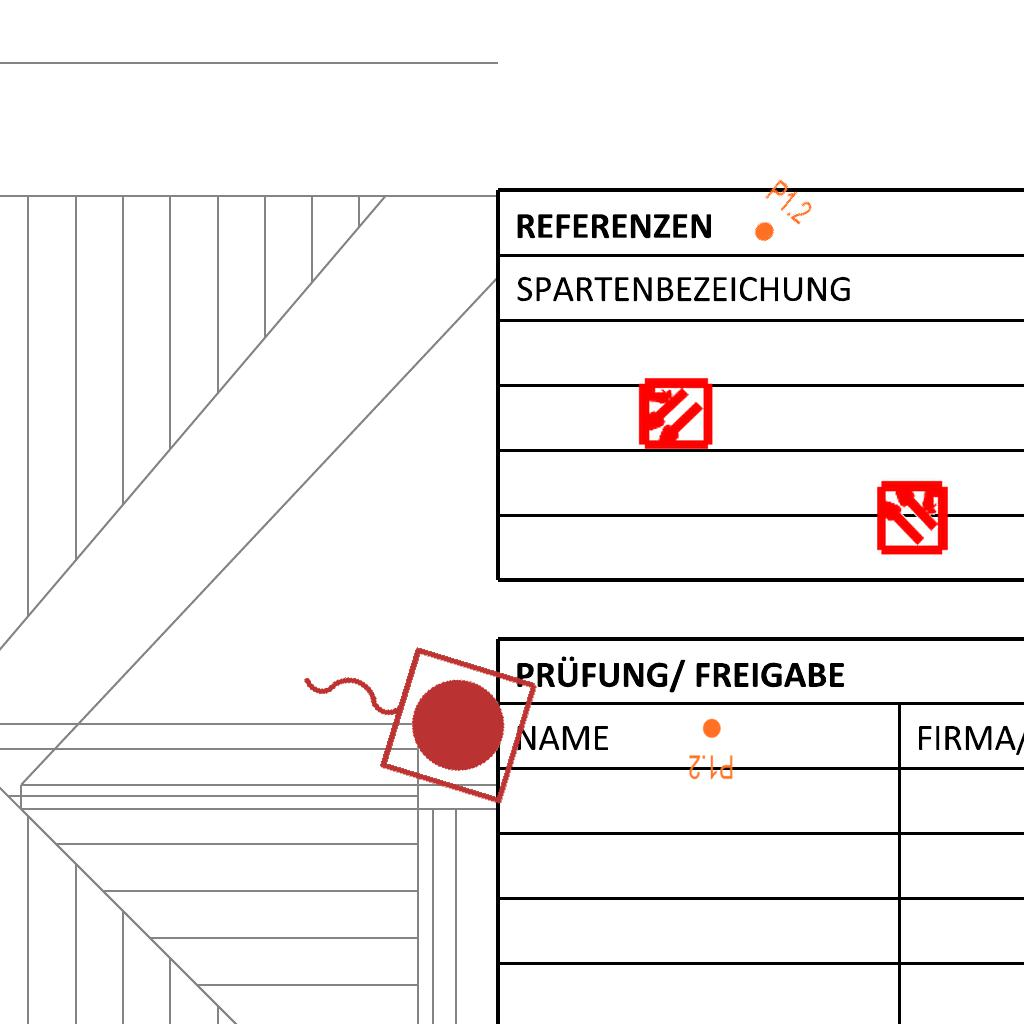Downlight_LED_Einbauleuchten_Flur: (739, 176, 817, 256), (688, 717, 734, 781)
OT_Multisensormelder_(Kombination_RMO_WMD): (617, 357, 730, 470), (856, 459, 969, 572)
Zugtaster: (273, 604, 549, 814)
